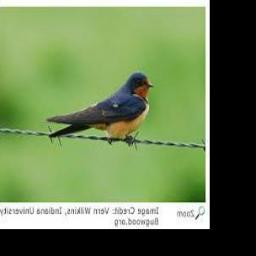Swallow: (46, 72, 154, 140)
